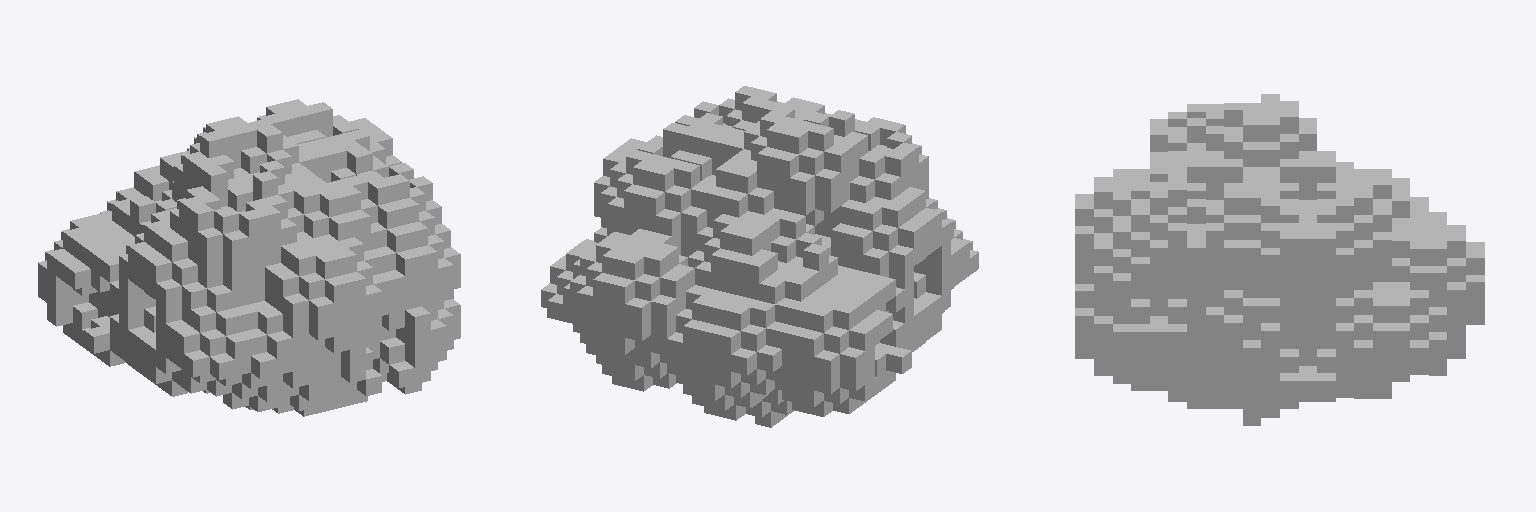
The model's file is SC_Rock4.obj.
3 views of the same model, side by side, from view 1: azimuth 30°, elevation 25°; view 2: azimuth 150°, elevation 25°; view 3: azimuth 270°, elevation 25° (orthographic).
Parts seen in each view (by area): view 1: SC_Rock4; view 2: SC_Rock4; view 3: SC_Rock4.
Part boxes in pixels (x1,y1,x2,y2): SC_Rock4: (38, 99, 460, 416); SC_Rock4: (541, 86, 978, 427); SC_Rock4: (1075, 94, 1484, 425).
Bounding box in the file's own units: 19 × 16 × 22.